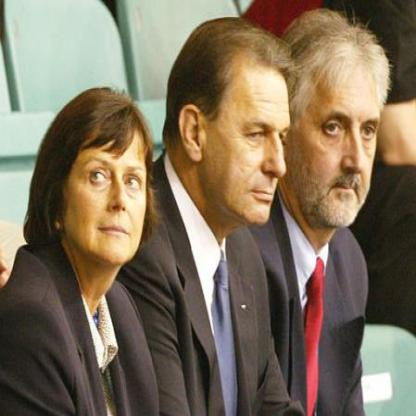face: (287, 33, 386, 234), (202, 30, 300, 233), (63, 95, 162, 273)
